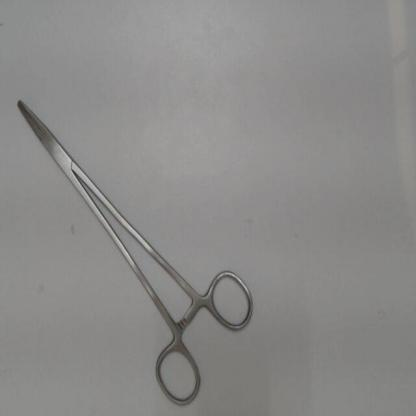8 Mayo Needle Holder: (8, 88, 264, 414)
